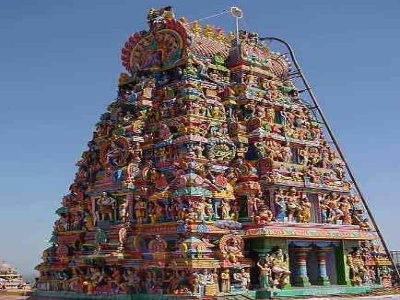gopura: (45, 50, 374, 270)
